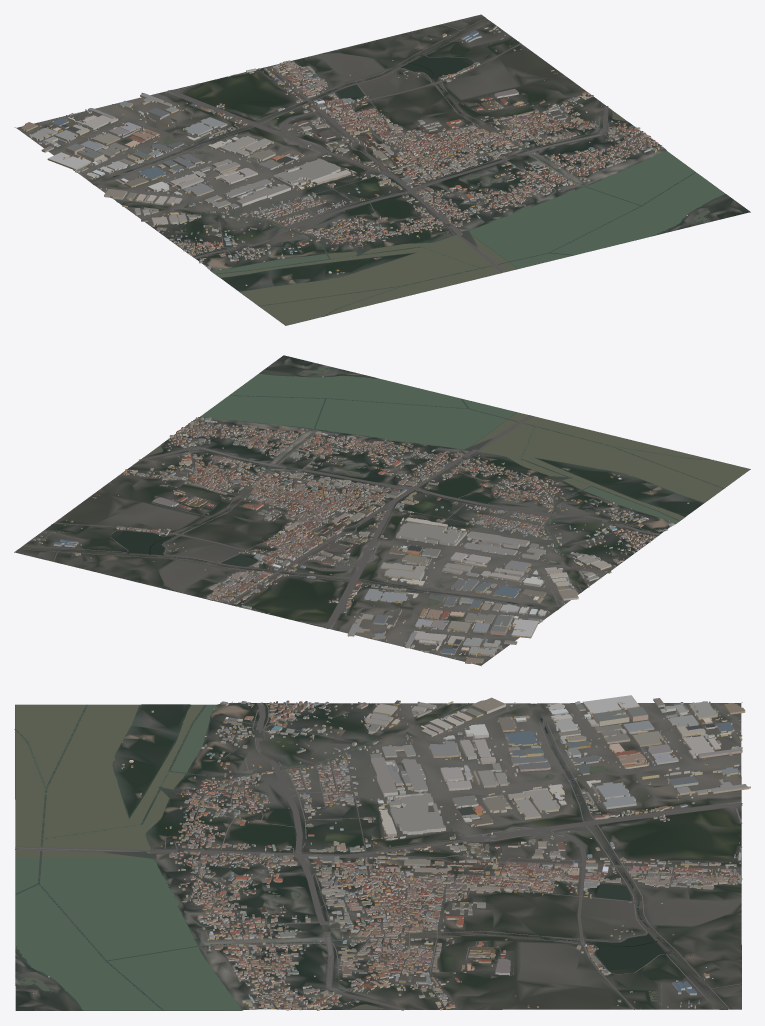
3 views of the same model, one above another, from view 1: azimuth 30°, elevation 25°; view 2: azimuth 150°, elevation 25°; view 3: azimuth 270°, elevation 25° (orthographic). The views are drawn at different scales.
Visible parts, largest first — view 1: ground, buildings, water, roads; view 2: ground, buildings, water, roads; view 3: ground, buildings, water, roads.
Part boxes in pixels (box(x1,y1,x2,y2)): ground: box(16, 14, 750, 325); buildings: box(21, 26, 718, 285); water: box(93, 21, 725, 325); roads: box(14, 18, 660, 272); ground: box(14, 355, 750, 665); buildings: box(32, 365, 689, 663); water: box(27, 366, 750, 622); roads: box(18, 415, 660, 666); ground: box(15, 702, 741, 1010); buildings: box(31, 695, 750, 1010); water: box(14, 703, 720, 1010); roads: box(15, 702, 742, 1010).
Bounding box in the file's own units: 2863 × 36.53 × 2845.
